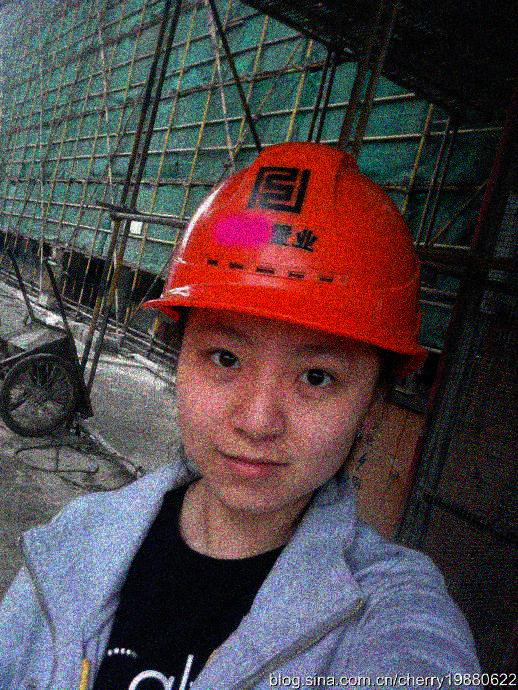helmet: (141, 141, 430, 514)
